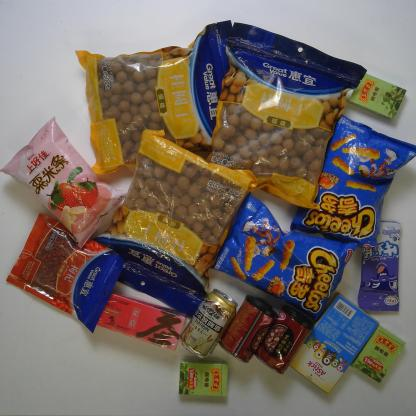Alcohol: (179, 288, 239, 358)
Candy: (355, 219, 403, 314), (351, 325, 407, 384), (346, 71, 408, 121), (178, 358, 230, 398)
Canned Food: (255, 303, 315, 374), (220, 294, 278, 366)
Dessert: (290, 290, 382, 396)
Dried Food: (94, 127, 281, 321), (204, 21, 371, 213), (74, 27, 230, 183)
Dried Fruit: (6, 210, 122, 336)
Instant Drink: (93, 292, 185, 352)
Puffed Food: (208, 189, 361, 318), (0, 113, 135, 254), (288, 114, 415, 246)
